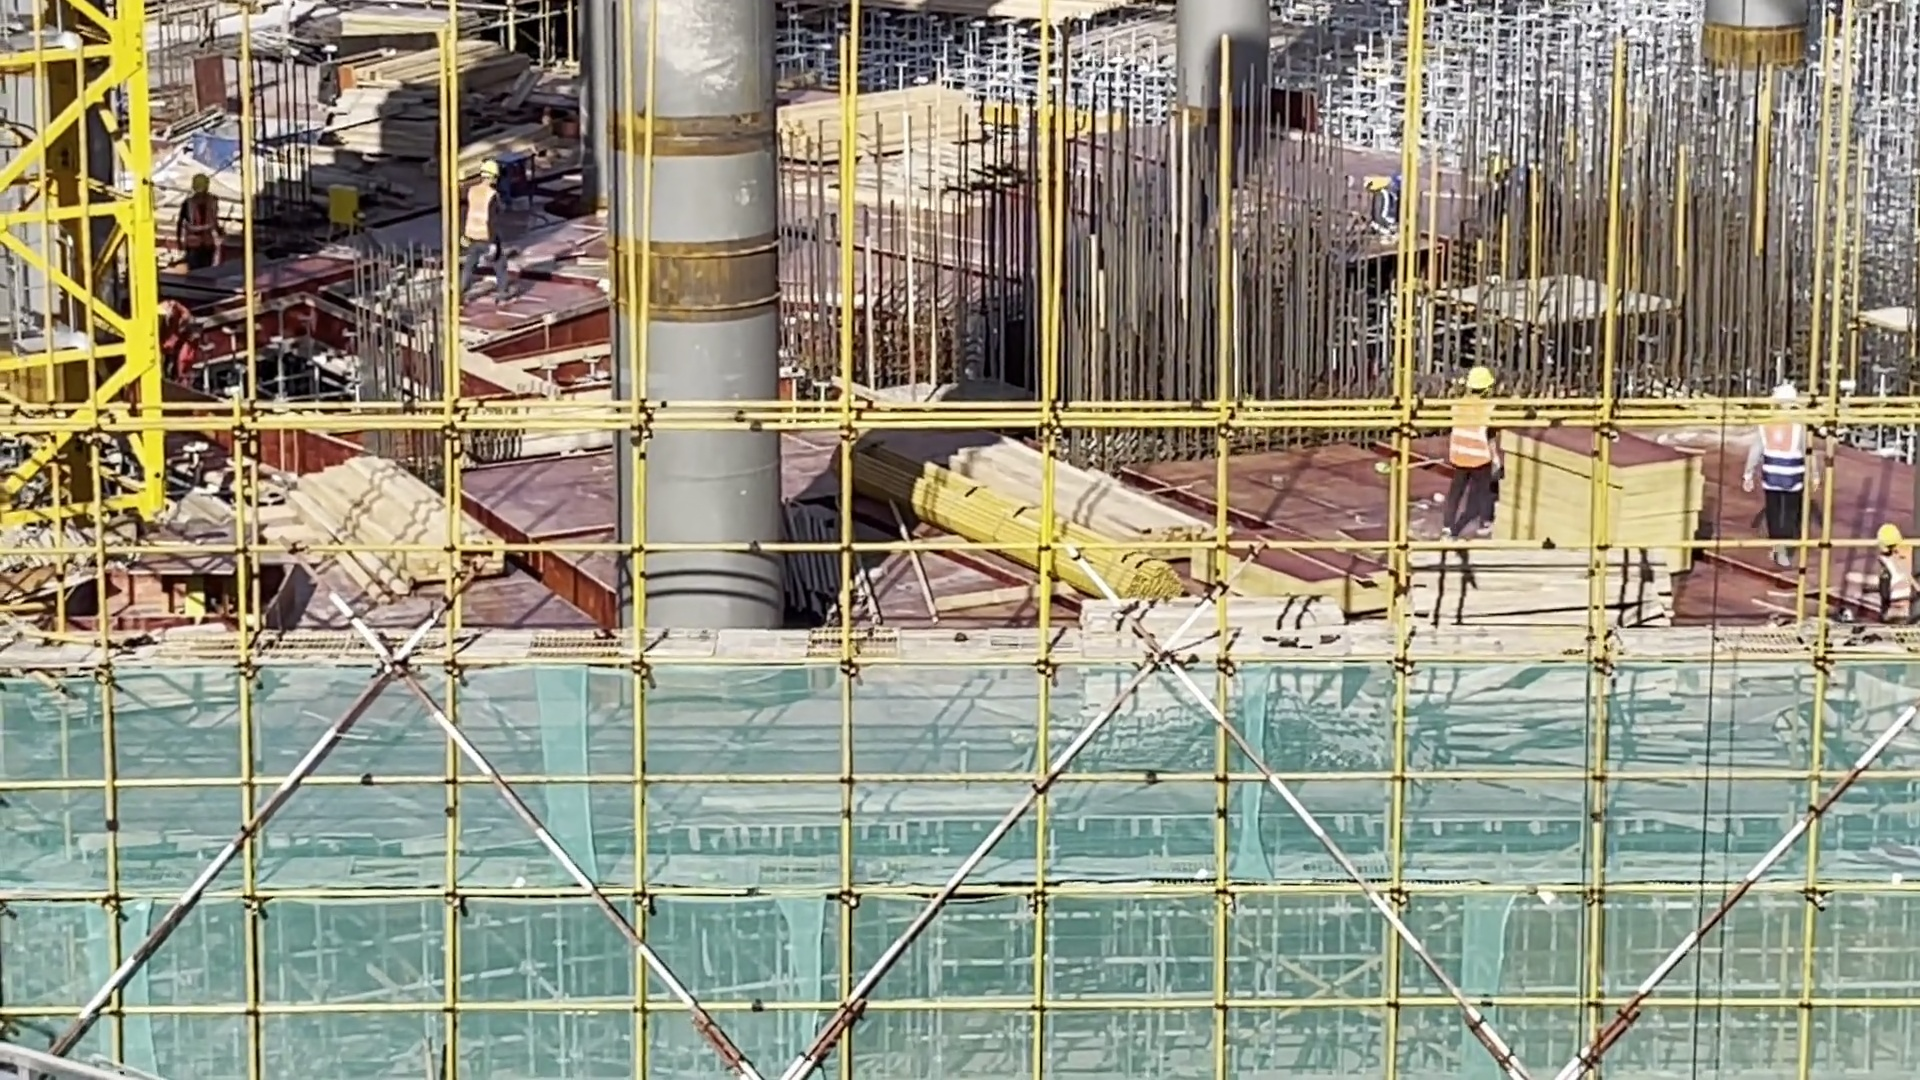helmet: (1878, 523, 1902, 544), (1469, 367, 1494, 386)
person: (1739, 388, 1820, 549), (456, 149, 513, 307), (1447, 364, 1497, 534), (169, 172, 220, 265)
vest: (1753, 419, 1809, 492), (1454, 423, 1492, 472), (466, 186, 493, 240)
